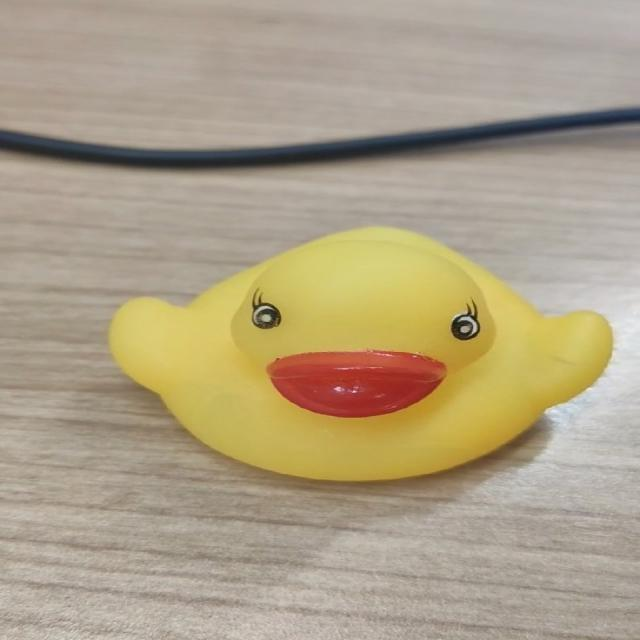rubber-duck: (108, 226, 610, 479)
